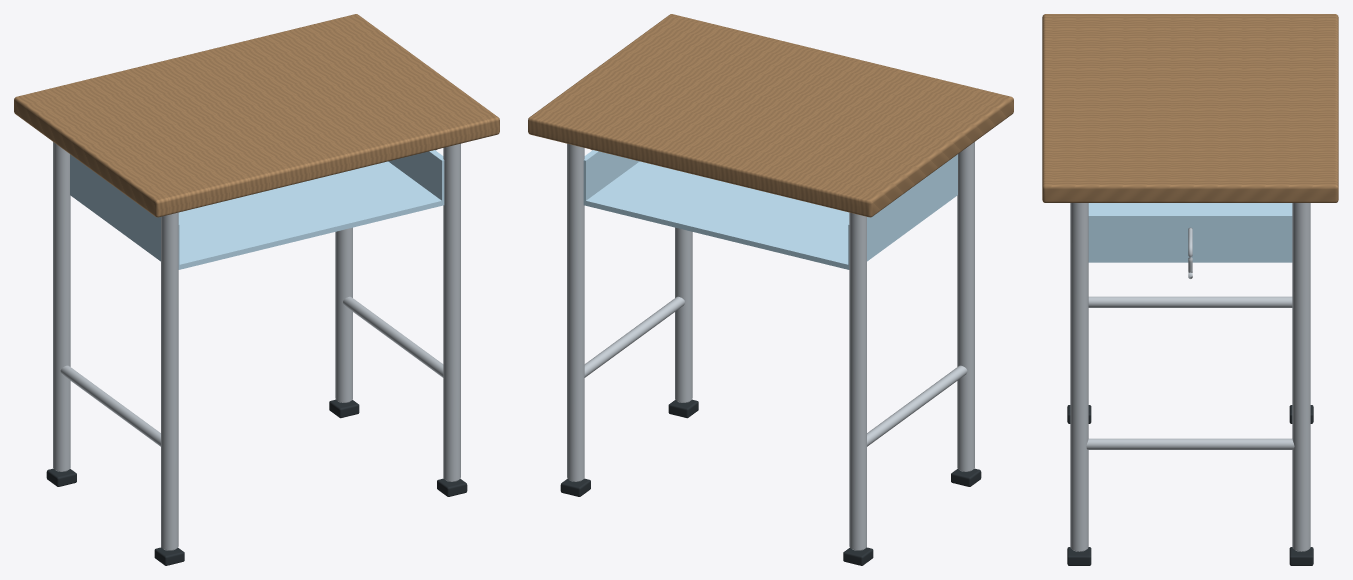
Rendered from student_desk.glb.
3 renders of one model, left to right at view 1: azimuth 30°, elevation 25°; view 2: azimuth 150°, elevation 25°; view 3: azimuth 270°, elevation 25°, orthographic. The views are drawn at different scales.
Visible parts, largest first — view 1: Student_Worktop, Book_Tray_Bottom, Student_Desk-0.2950.195, Student_Desk0.2950.195, Student_Desk-0.295-0.195, Book_Tray_Side-0.28, Student_Desk0.295-0.195, Book_Tray_Side0.28, Student_Desk_Brace0.295, Student_Desk_Brace-0.295; view 2: Student_Worktop, Book_Tray_Bottom, Student_Desk-0.295-0.195, Student_Desk0.295-0.195, Student_Desk-0.2950.195, Book_Tray_Side-0.28, Student_Desk0.2950.195, Book_Tray_Side0.28, Student_Desk_Brace0.295, Student_Desk_Brace-0.295; view 3: Student_Worktop, Book_Tray_Side0.28, Student_Desk0.295-0.195, Student_Desk0.2950.195, Student_Desk_Brace0.295, Student_Desk_Brace-0.295, Book_Tray_Bottom, Student_Desk_Rubber0.295-0.195, Student_Desk_Rubber0.2950.195.
Boxes of the visible parts, x1,y1,x2,y2 form: Student_Worktop: (14, 14, 499, 217); Book_Tray_Bottom: (178, 161, 441, 269); Student_Desk-0.2950.195: (161, 212, 178, 550); Student_Desk0.2950.195: (443, 143, 460, 481); Student_Desk-0.295-0.195: (53, 142, 70, 471); Book_Tray_Side-0.28: (70, 154, 179, 269); Student_Desk0.295-0.195: (335, 227, 352, 402); Book_Tray_Side0.28: (388, 150, 444, 205); Student_Desk_Brace0.295: (343, 296, 443, 377); Student_Desk_Brace-0.295: (60, 365, 160, 446); Student_Worktop: (528, 14, 1013, 217); Book_Tray_Bottom: (585, 161, 849, 269); Student_Desk-0.295-0.195: (849, 212, 866, 550); Student_Desk0.295-0.195: (567, 143, 584, 481); Student_Desk-0.2950.195: (957, 142, 974, 471); Book_Tray_Side-0.28: (848, 154, 957, 269); Student_Desk0.2950.195: (675, 227, 692, 402); Book_Tray_Side0.28: (583, 150, 639, 205); Student_Desk_Brace0.295: (584, 296, 684, 377); Student_Desk_Brace-0.295: (867, 365, 967, 446); Student_Worktop: (1042, 14, 1338, 202); Book_Tray_Side0.28: (1088, 213, 1292, 262); Student_Desk0.295-0.195: (1292, 203, 1310, 551); Student_Desk0.2950.195: (1070, 203, 1088, 551); Student_Desk_Brace0.295: (1086, 438, 1294, 449); Student_Desk_Brace-0.295: (1088, 296, 1292, 307); Book_Tray_Bottom: (1088, 203, 1292, 213); Student_Desk_Rubber0.295-0.195: (1289, 547, 1313, 565); Student_Desk_Rubber0.2950.195: (1067, 547, 1091, 565).
Size of the model in its own units: 0.7522 by 0.7575 by 0.52.
4 materials, 1 textured.
